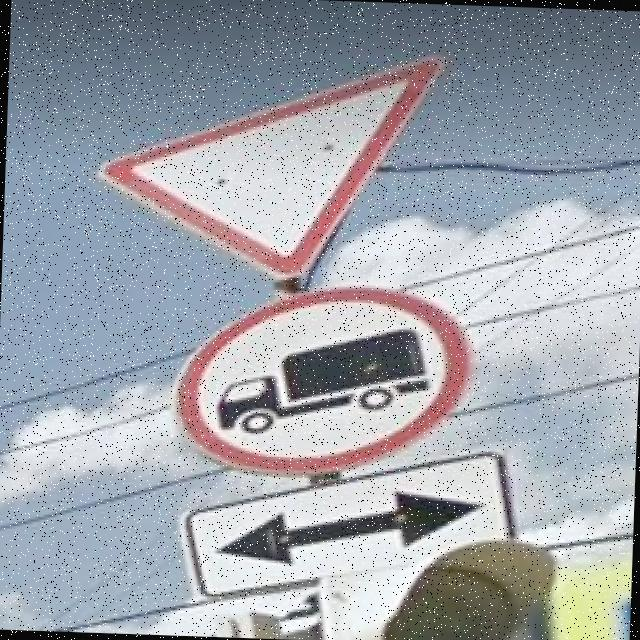Ustap pierwszenstwa: (93, 40, 450, 282)
